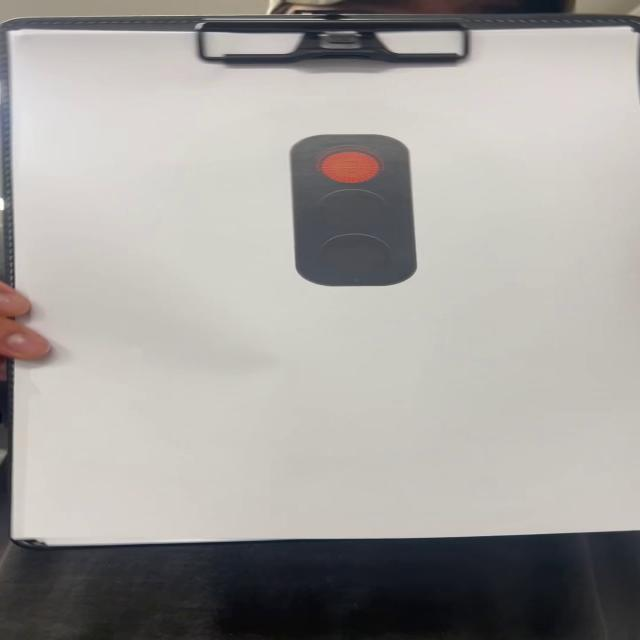red: (291, 133, 422, 287)
